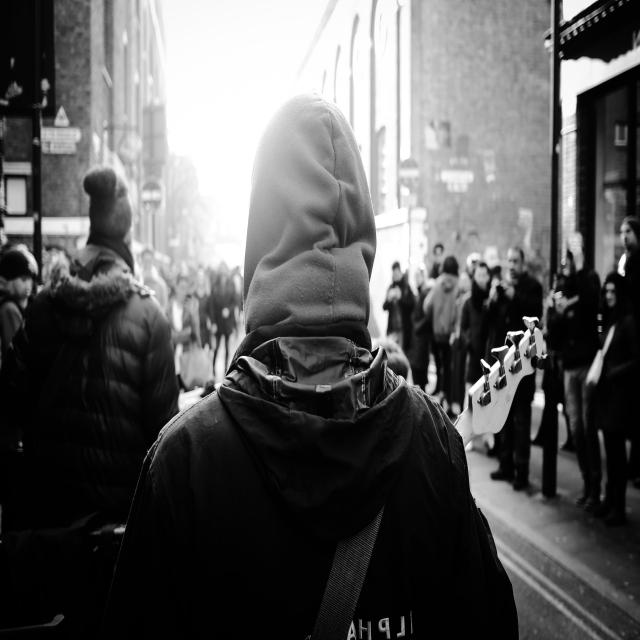adult: (131, 95, 515, 640), (1, 168, 177, 526)
